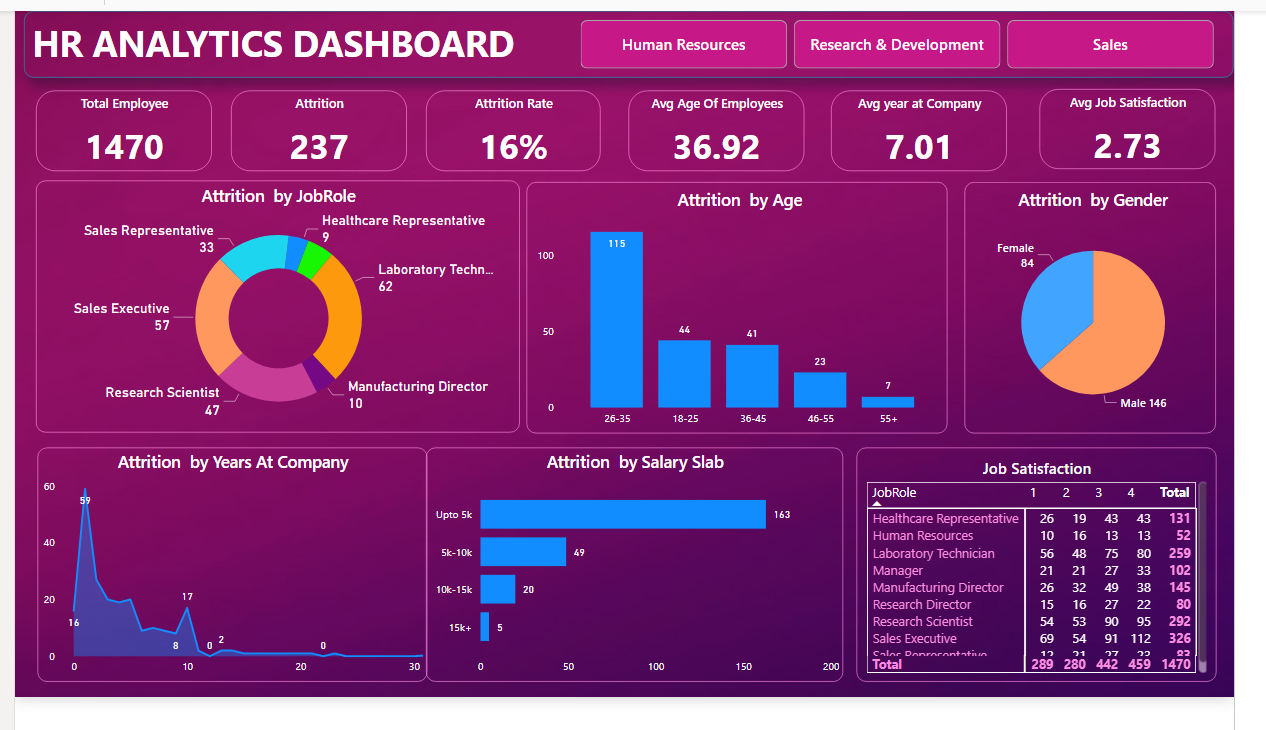

The dashboard page shown, as its layout file describes it:
{"tool":"powerbi","page":{"name":"Page 1","canvas":[1280,720],"ordinal":0},"visuals":[{"type":"textbox","box":[9.5,0,1269.9,69.9],"z":0},{"type":"cardVisual","title":"Total Employee","fields":{"Data":["HR_Analytics.Total Employees"]},"box":[21.5,83,184.7,84.5],"z":1000},{"type":"cardVisual","title":"Attrition","fields":{"Data":["Sum(HR_Analytics.Attrition Count)"]},"box":[226.2,83,184.7,84.5],"z":2000},{"type":"cardVisual","title":" Avg Age Of Employees","fields":{"Data":["Avg(HR_Analytics.Age)"]},"box":[644.1,83,184.7,84.5],"z":3000},{"type":"cardVisual","title":"Avg year at Company","fields":{"Data":["Avg(HR_Analytics.YearsAtCompany)"]},"box":[857.4,83,184.7,84.5],"z":4000},{"type":"cardVisual","title":"Attrition Rate","fields":{"Data":["HR_Analytics.Attrition Rate"]},"box":[432.3,83,183.2,84.5],"z":5000},{"type":"donutChart","title":"Attrition  by JobRole","fields":{"Y":["Sum(HR_Analytics.Attrition Count)"],"Series":["HR_Analytics.JobRole"]},"box":[21.5,177.5,508.2,264.8],"z":6000},{"type":"columnChart","title":"Attrition  by Age","fields":{"Y":["Sum(HR_Analytics.Attrition Count)"],"Category":["HR_Analytics.AgeGroup"]},"box":[537.2,179.6,441.9,263.8],"z":7000},{"type":"areaChart","title":"Attrition  by Years At Company","fields":{"Y":["Sum(HR_Analytics.Attrition Count)"],"Category":["HR_Analytics.YearsAtCompany"]},"box":[22.9,458.1,409.4,246.2],"z":8000},{"type":"barChart","title":"Attrition  by Salary Slab","fields":{"Category":["HR_Analytics.SalarySlab"],"Y":["Sum(HR_Analytics.Attrition Count)"]},"box":[432.3,458.1,438,246.2],"z":9000},{"type":"pivotTable","title":"Job Satisfaction","fields":{"Rows":["HR_Analytics.JobRole"],"Columns":["HR_Analytics.JobSatisfaction"],"Values":["HR_Analytics.Total Employees"]},"box":[883.2,458.1,377.9,246.2],"z":10000},{"type":"cardVisual","title":"Avg Job Satisfaction","fields":{"Data":["Avg(HR_Analytics.JobSatisfaction)"]},"box":[1076,82.6,184.4,84.2],"z":11000},{"type":"advancedSlicerVisual","fields":{"Values":["HR_Analytics.Department"]},"box":[593.4,10.1,666.3,168.1],"z":12000},{"type":"pieChart","title":"Attrition  by Gender","fields":{"Category":["HR_Analytics.Gender"],"Y":["Sum(HR_Analytics.Attrition Count)"]},"box":[996.6,179.6,263.8,263.8],"z":13000}]}

Visuals, with their boxes in screenshot pixels (x1, y1, x2, y2), scaled from the page's 1280x720 canvas onto the 1266x730 screenshot:
textbox: (x1=9, y1=0, x2=1265, y2=71)
"Total Employee" cardVisual: (x1=21, y1=84, x2=204, y2=170)
"Attrition" cardVisual: (x1=224, y1=84, x2=406, y2=170)
" Avg Age Of Employees" cardVisual: (x1=637, y1=84, x2=820, y2=170)
"Avg year at Company" cardVisual: (x1=848, y1=84, x2=1031, y2=170)
"Attrition Rate" cardVisual: (x1=428, y1=84, x2=609, y2=170)
"Attrition  by JobRole" donutChart: (x1=21, y1=180, x2=524, y2=448)
"Attrition  by Age" columnChart: (x1=531, y1=182, x2=968, y2=450)
"Attrition  by Years At Company" areaChart: (x1=23, y1=464, x2=428, y2=714)
"Attrition  by Salary Slab" barChart: (x1=428, y1=464, x2=861, y2=714)
"Job Satisfaction" pivotTable: (x1=874, y1=464, x2=1247, y2=714)
"Avg Job Satisfaction" cardVisual: (x1=1064, y1=84, x2=1247, y2=169)
advancedSlicerVisual - HR_Analytics.Department: (x1=587, y1=10, x2=1246, y2=181)
"Attrition  by Gender" pieChart: (x1=986, y1=182, x2=1247, y2=450)
